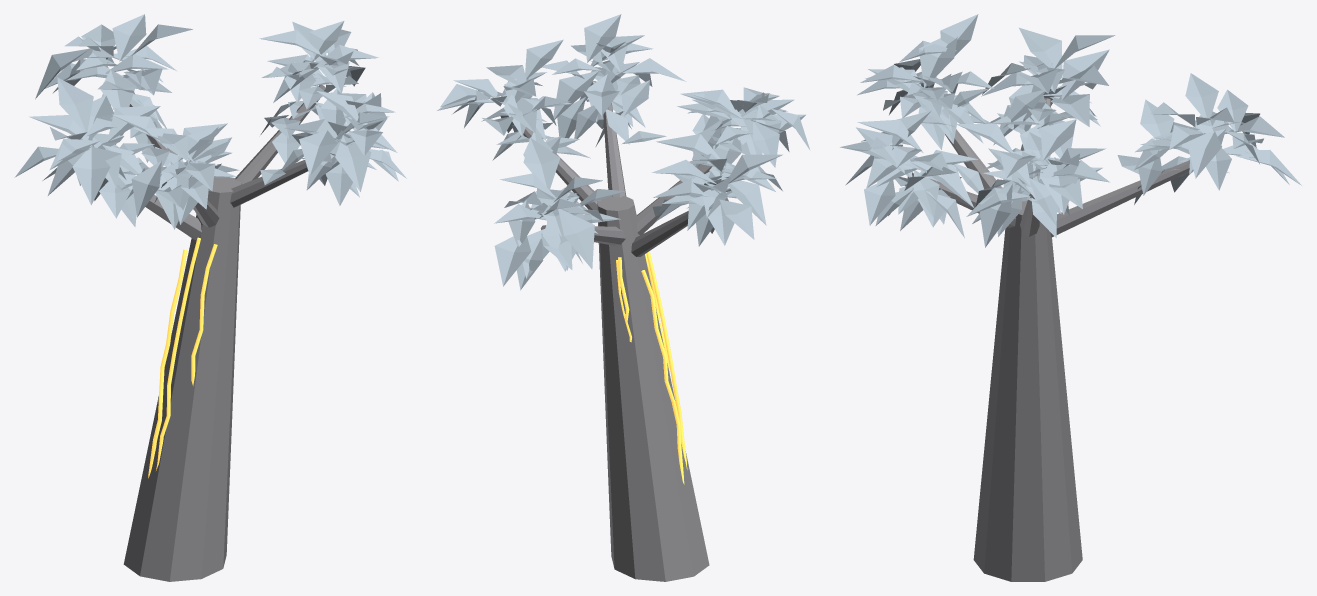
File: ironbark.glb
3 views of the same model, side by side, from view 1: azimuth 30°, elevation 25°; view 2: azimuth 150°, elevation 25°; view 3: azimuth 270°, elevation 25° (orthographic). The views are drawn at different scales.
Parts seen in each view (by area): view 1: Cone, IB_leaf146, IB_leaf143, Cone.003, IB_crack3, Cone.002, IB_leaf74, IB_crack4, IB_leaf64, IB_leaf105, IB_leaf18, IB_leaf21 (+19 smaller); view 2: Cone, IB_leaf12, Cone.003, IB_leaf14, Cone.005, IB_leaf11, IB_leaf65, IB_crack3, IB_leaf84, IB_crack4, IB_leaf147, IB_leaf37 (+18 smaller); view 3: Cone, Cone.001, IB_leaf149, IB_leaf32, IB_leaf132, IB_leaf3, IB_leaf0, IB_leaf116, IB_leaf47, IB_leaf66, Cone.004, IB_leaf50 (+12 smaller).
Part boxes in pixels (box(x1,y1,x2,y2)): Cone: box(123, 177, 241, 581); IB_leaf146: box(72, 145, 110, 205); IB_leaf143: box(57, 77, 93, 133); Cone.003: box(230, 153, 335, 207); IB_crack3: box(148, 249, 187, 478); Cone.002: box(235, 85, 325, 184); IB_leaf74: box(335, 135, 371, 191); IB_crack4: box(156, 237, 200, 470); IB_leaf64: box(299, 130, 337, 175); IB_leaf105: box(131, 161, 161, 217); IB_leaf18: box(112, 14, 146, 61); IB_leaf21: box(100, 70, 135, 109); Cone: box(597, 196, 709, 581); IB_leaf12: box(558, 209, 594, 269); Cone.003: box(603, 103, 626, 197); IB_leaf14: box(523, 137, 560, 189); Cone.005: box(631, 211, 688, 256); IB_leaf11: box(494, 236, 531, 286); IB_leaf65: box(584, 14, 621, 62); IB_crack3: box(641, 270, 684, 484); IB_leaf84: box(552, 70, 598, 121); IB_crack4: box(646, 251, 687, 469); IB_leaf147: box(721, 175, 766, 225); IB_leaf37: box(525, 39, 563, 78); Cone: box(973, 201, 1082, 581); Cone.001: box(1050, 160, 1189, 237); IB_leaf149: box(1019, 27, 1062, 78); IB_leaf32: box(978, 183, 1012, 247); IB_leaf132: box(1061, 49, 1109, 100); IB_leaf3: box(1187, 131, 1221, 178); IB_leaf0: box(1185, 73, 1218, 123); IB_leaf116: box(918, 37, 957, 88); IB_leaf47: box(1040, 119, 1076, 160); IB_leaf66: box(864, 180, 895, 225); Cone.004: box(945, 129, 1001, 193); IB_leaf50: box(1040, 157, 1078, 214).
Size of the model in its own units: 2.53 by 3.48 by 2.9.
